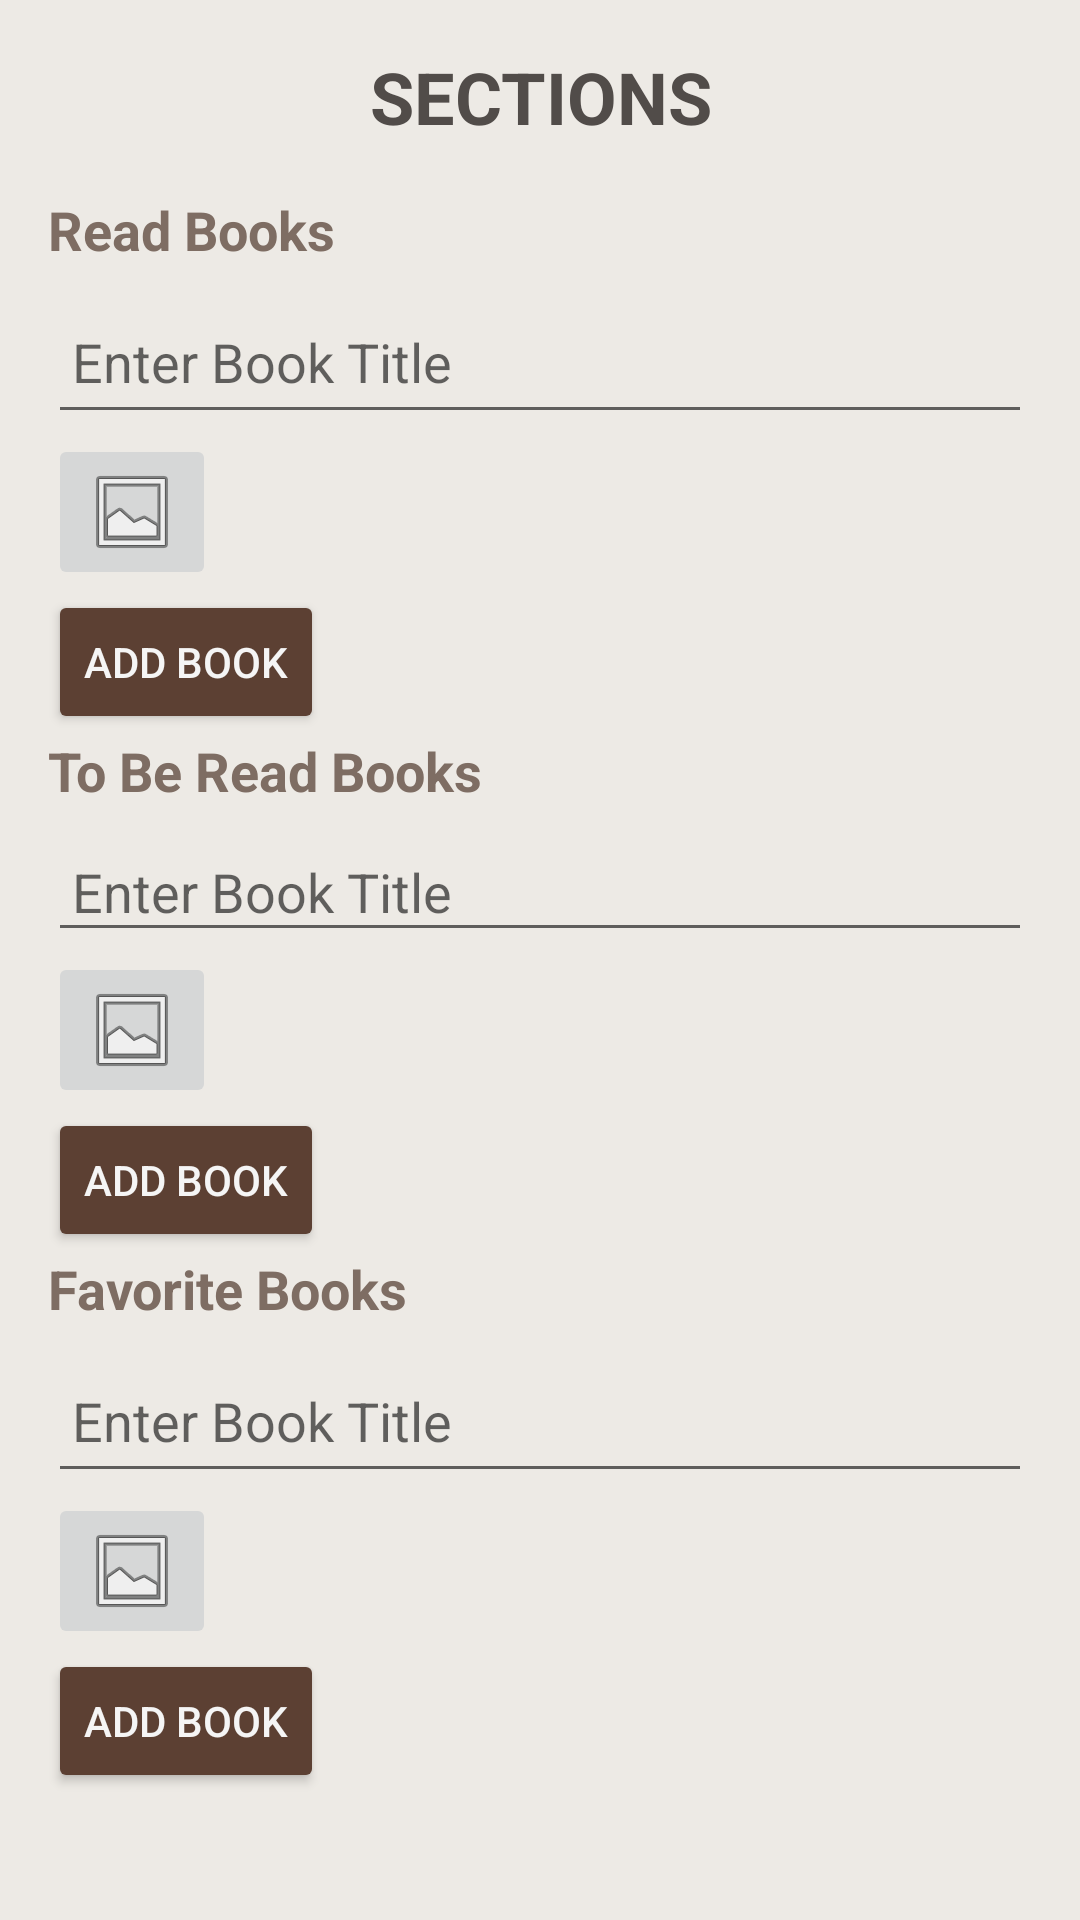

Named icons in this screenshot (1080px x 1920px) and their bounding boxes, (x1, y1, x2, y2):
Select Book Cover: (60, 452, 204, 572), (60, 970, 204, 1090), (60, 1511, 204, 1631)
